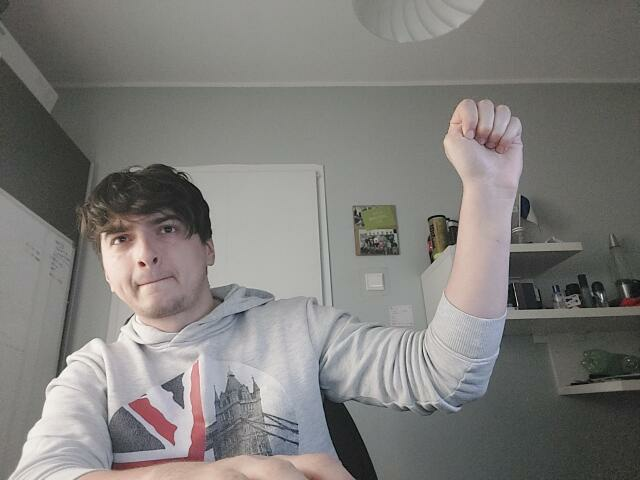yes: (442, 97, 525, 186)
